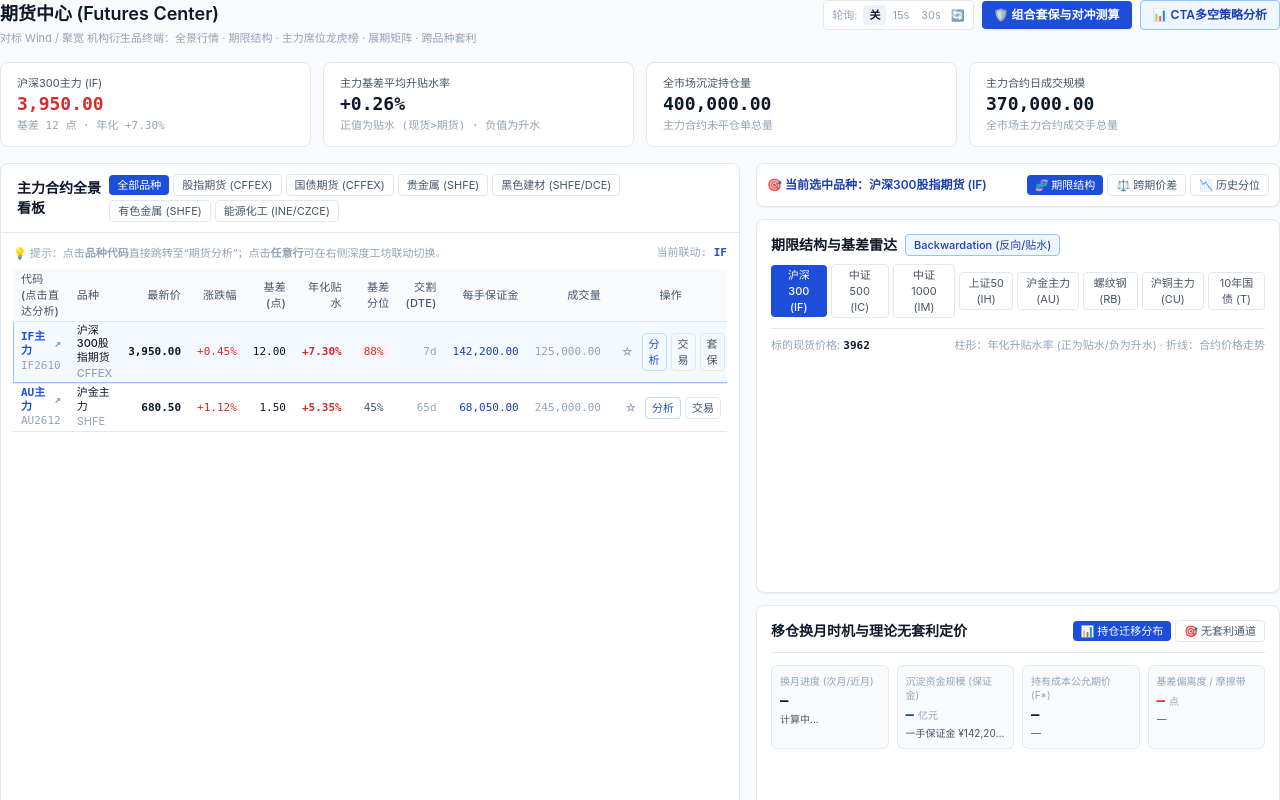
Test: FuturesCenter Component › supports opening and using hedge calculator modal
Expected: the text "沪深300股指期货" is shown, [77,324,112,365]
Click the button "🛡️ 组合套保与对冲测算".
click(1056, 15)  # box [982,1,1132,29]
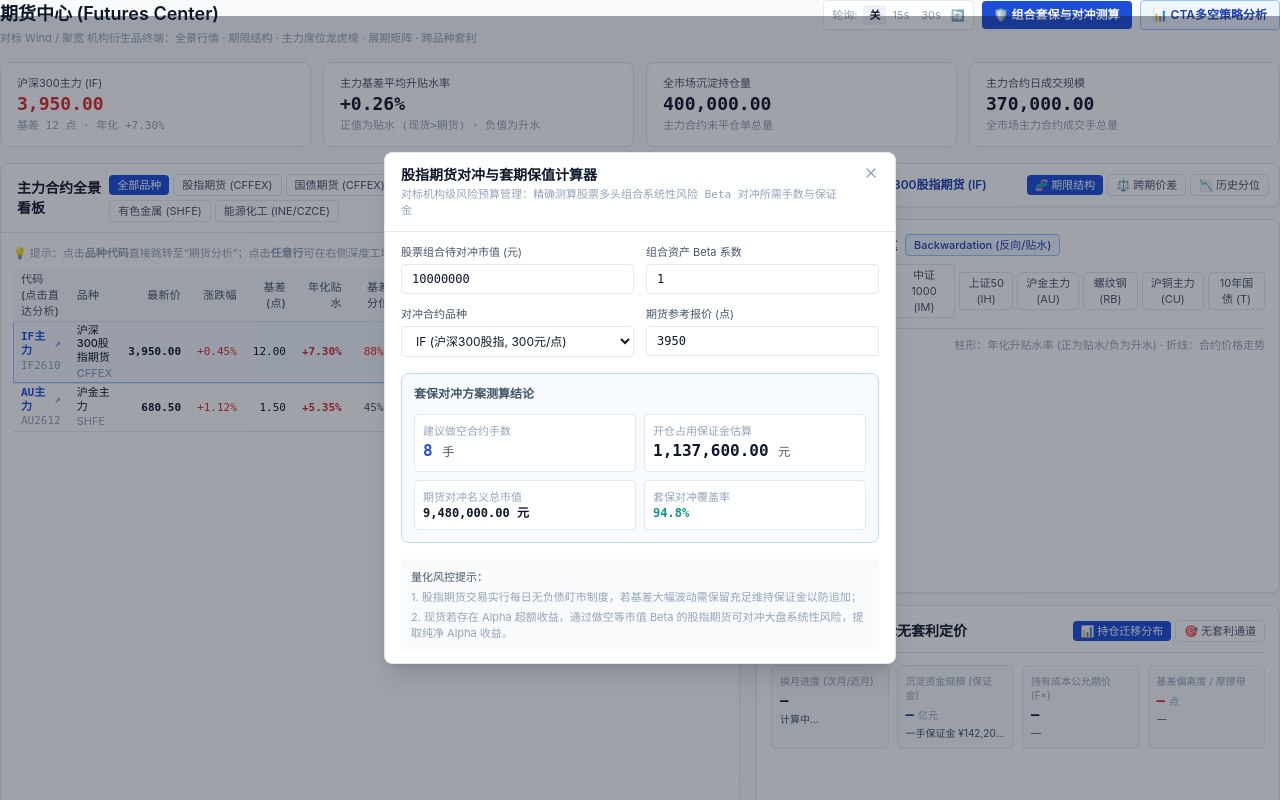
Result: the heading "股指期货对冲与套期保值计算器" is shown at [401,166,597,183]
Result: the text "建议做空合约手数" is shown at [423,424,511,438]
Result: the text "8" is shown at [423,441,433,460]
